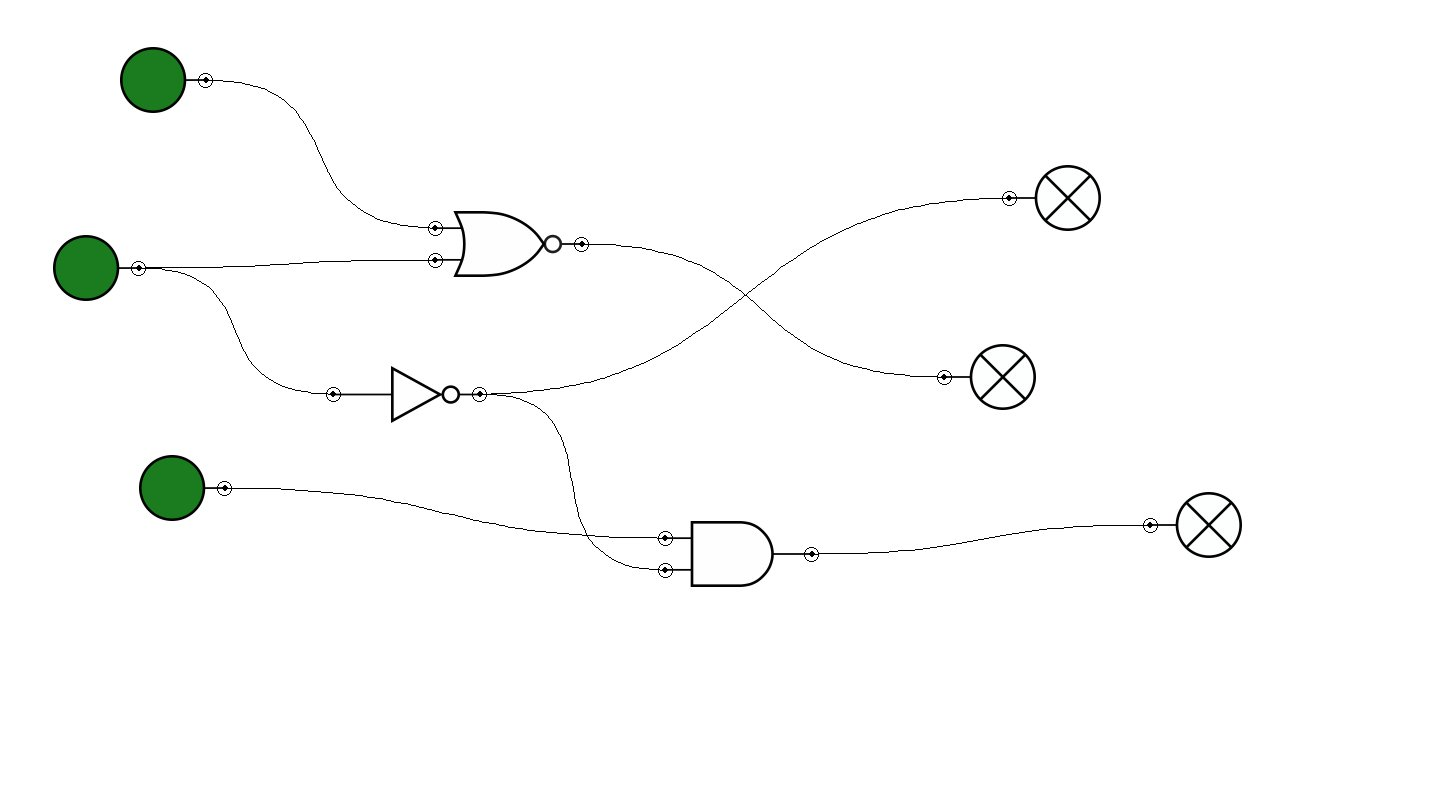and: (658, 521, 819, 587)
bulb: (1143, 492, 1242, 558), (1002, 165, 1101, 231), (937, 344, 1036, 410)
nor: (428, 211, 589, 277)
not: (326, 366, 487, 423)
switch_True: (139, 455, 232, 521), (120, 47, 213, 113), (53, 235, 146, 301)
